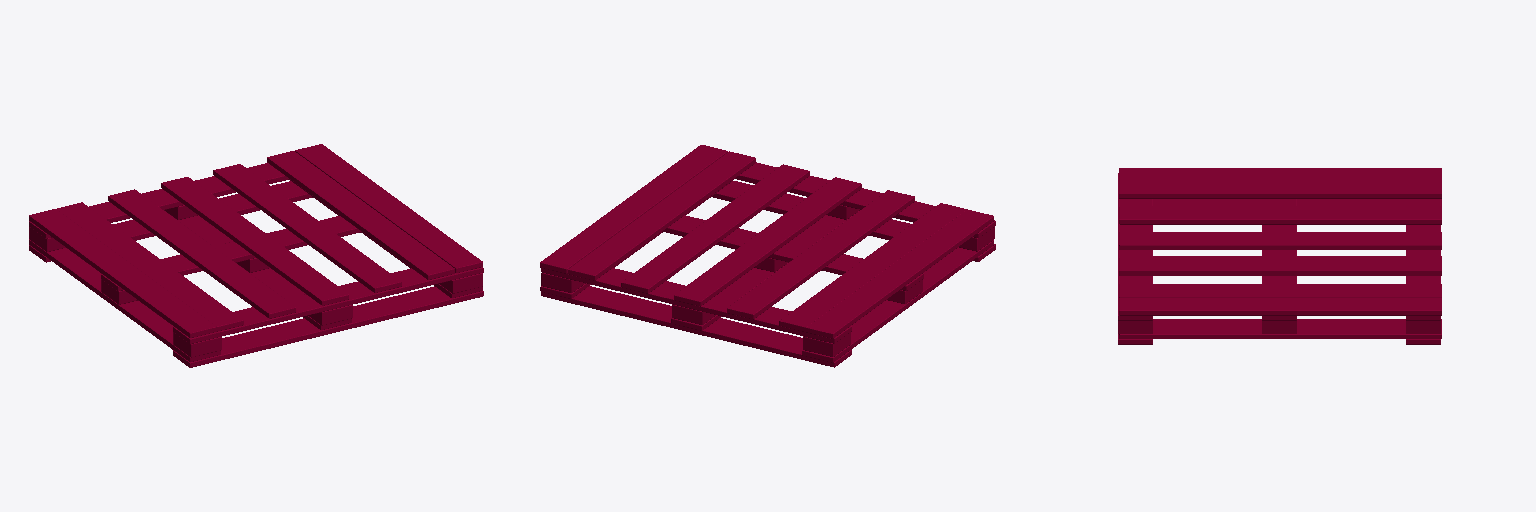
The model's file is Pallet.obj.
The picture shows the model from 3 angles: view 1: azimuth 30°, elevation 25°; view 2: azimuth 150°, elevation 25°; view 3: azimuth 270°, elevation 25°; orthographic projection.
Parts seen in each view (by area): view 1: Pallet; view 2: Pallet; view 3: Pallet.
Part boxes in pixels (x1,y1,x2,y2): Pallet: (29,144,483,367); Pallet: (540,145,995,367); Pallet: (1118,168,1441,344).
Size of the model in its own units: 114 by 12.62 by 109.